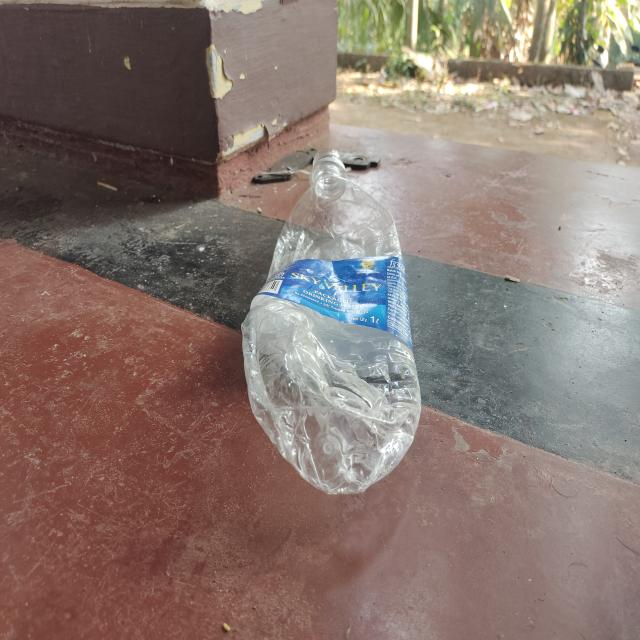plastic: (239, 158, 423, 497)
